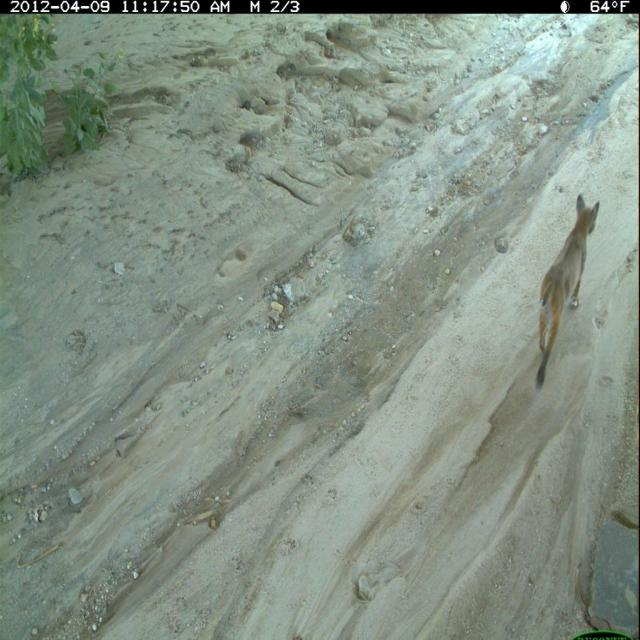bobcat: (528, 191, 606, 399)
